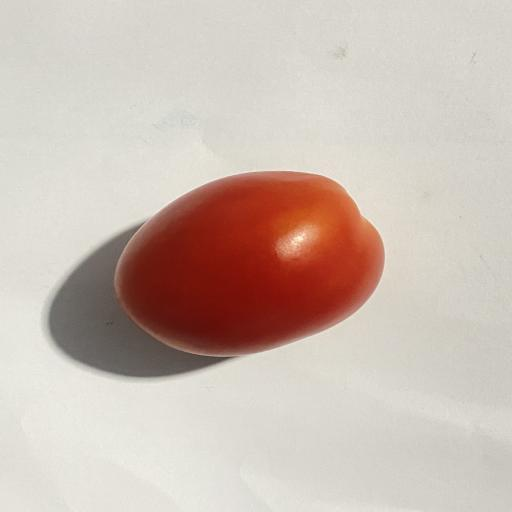ripe: (115, 171, 384, 356)
